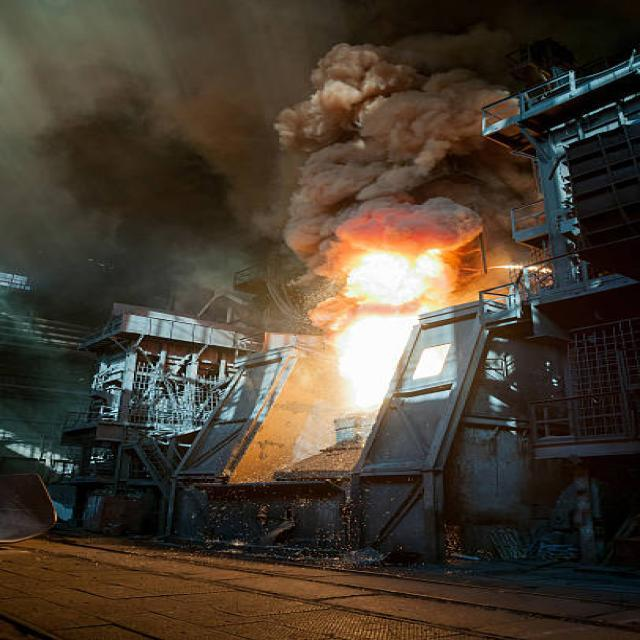Fire: (322, 249, 437, 417)
Smoke: (232, 0, 502, 239), (42, 6, 244, 282), (284, 224, 500, 288)
